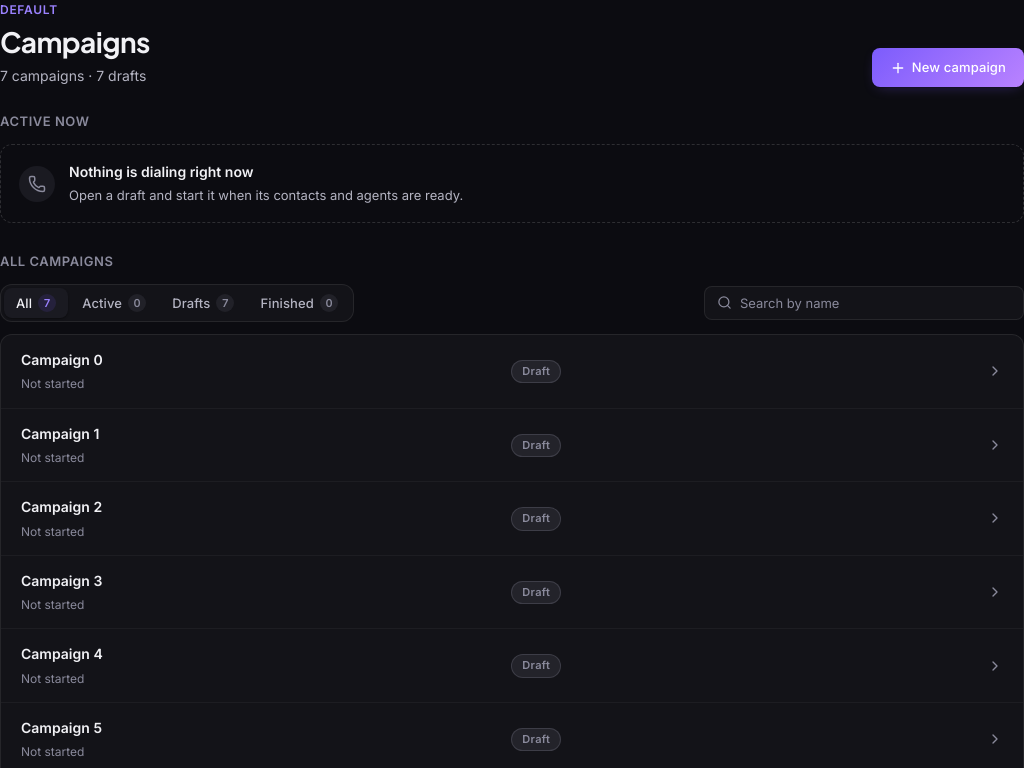
Test: AgencyCampaignsPage — the list › offers a search above six campaigns, and says when nothing matches
The width and height of the screenshot is (1024, 768).
Type "campaign 3" into the search field named "Search campaigns by name" at x=876, y=303, box top-left (740, 287), bottom-right (1011, 319)
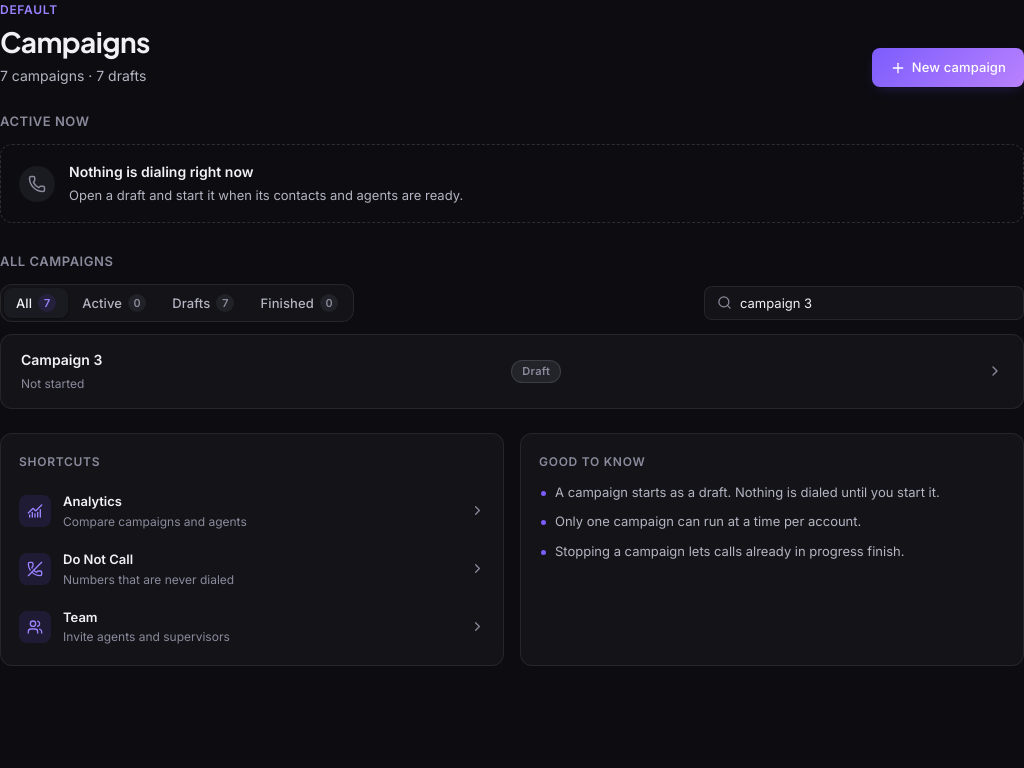
Replace the text in the search field named "Search campaigns by name" with "zzz" at x=876, y=303, box top-left (740, 287), bottom-right (1011, 319)
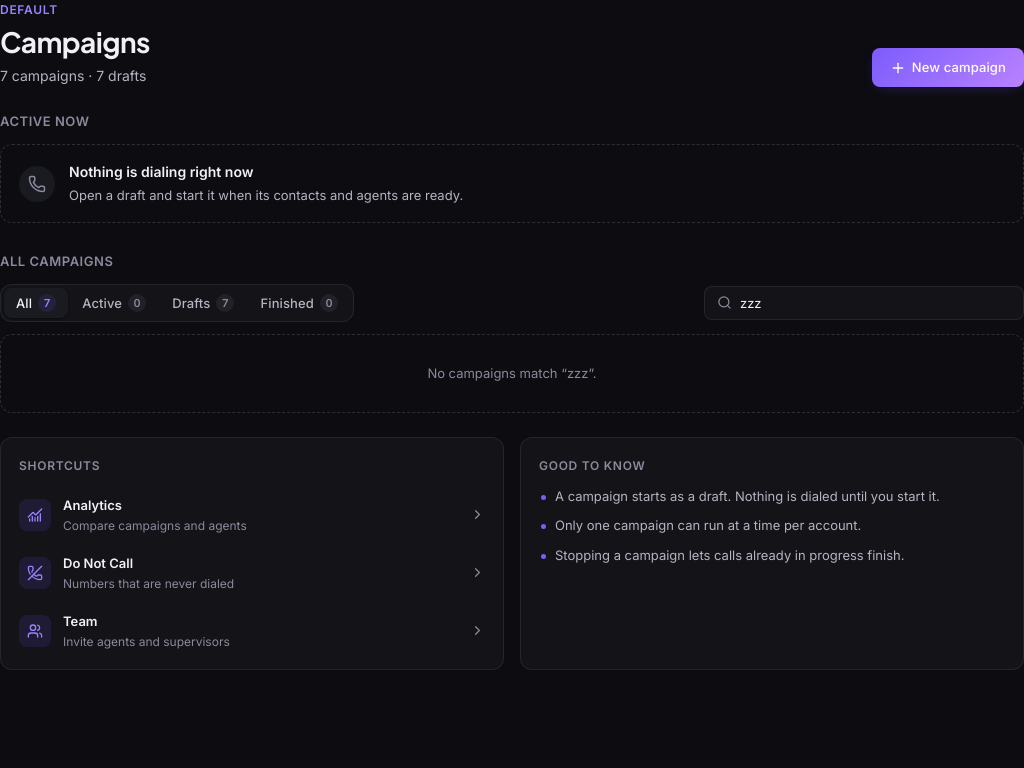
Expected: the text "No campaigns match “zzz”." is shown, top-left (0, 334), bottom-right (1023, 413)
